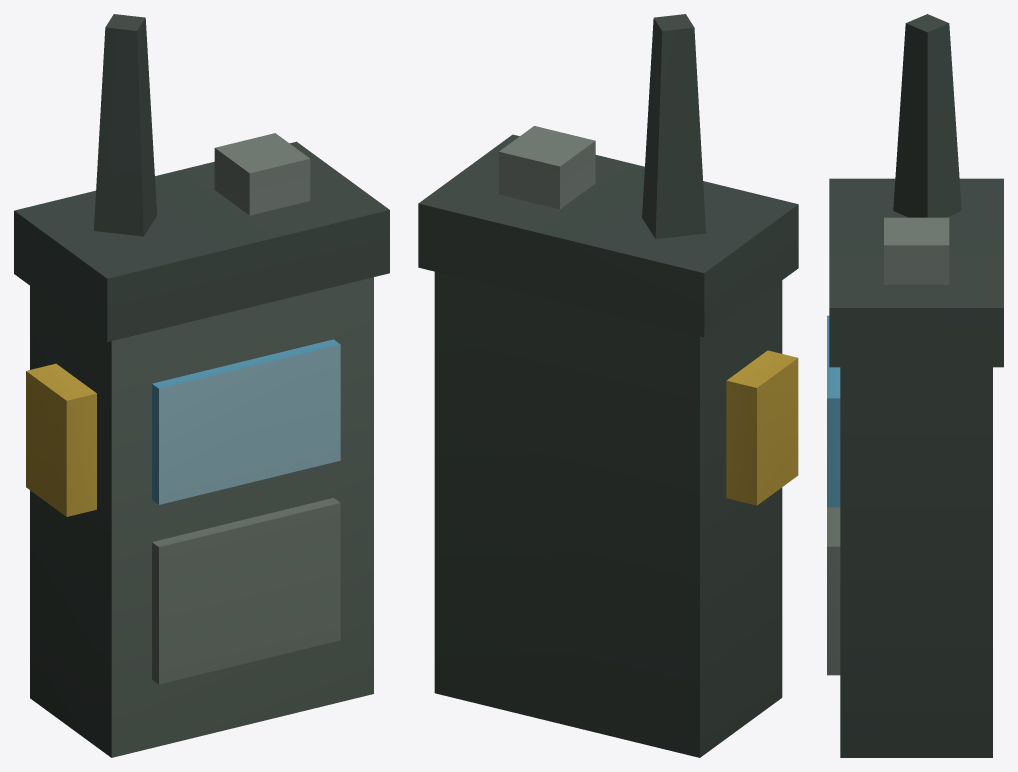
File: custom-radio.glb
The picture shows the model from 3 angles, left to right: view 1: azimuth 30°, elevation 25°; view 2: azimuth 150°, elevation 25°; view 3: azimuth 270°, elevation 25°; orthographic projection. The views are drawn at different scales.
Visible parts, largest first — view 1: radio; view 2: radio; view 3: radio.
Part boxes in pixels (x1,y1,x2,y2): radio: [14, 14, 389, 757]; radio: [418, 14, 798, 757]; radio: [827, 14, 1003, 757].
Bounding box in the file's own units: 0.3 × 0.65 × 0.162.
